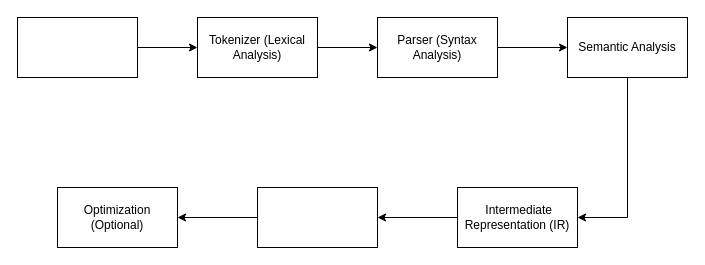
Image size: 705x265. Some labels were removed from this diagram. Here are the shapes that lost their labels. From the top down, the box of each, then its label:
(16, 16, 138, 78): Language Design
(256, 186, 378, 248): Code Generation
